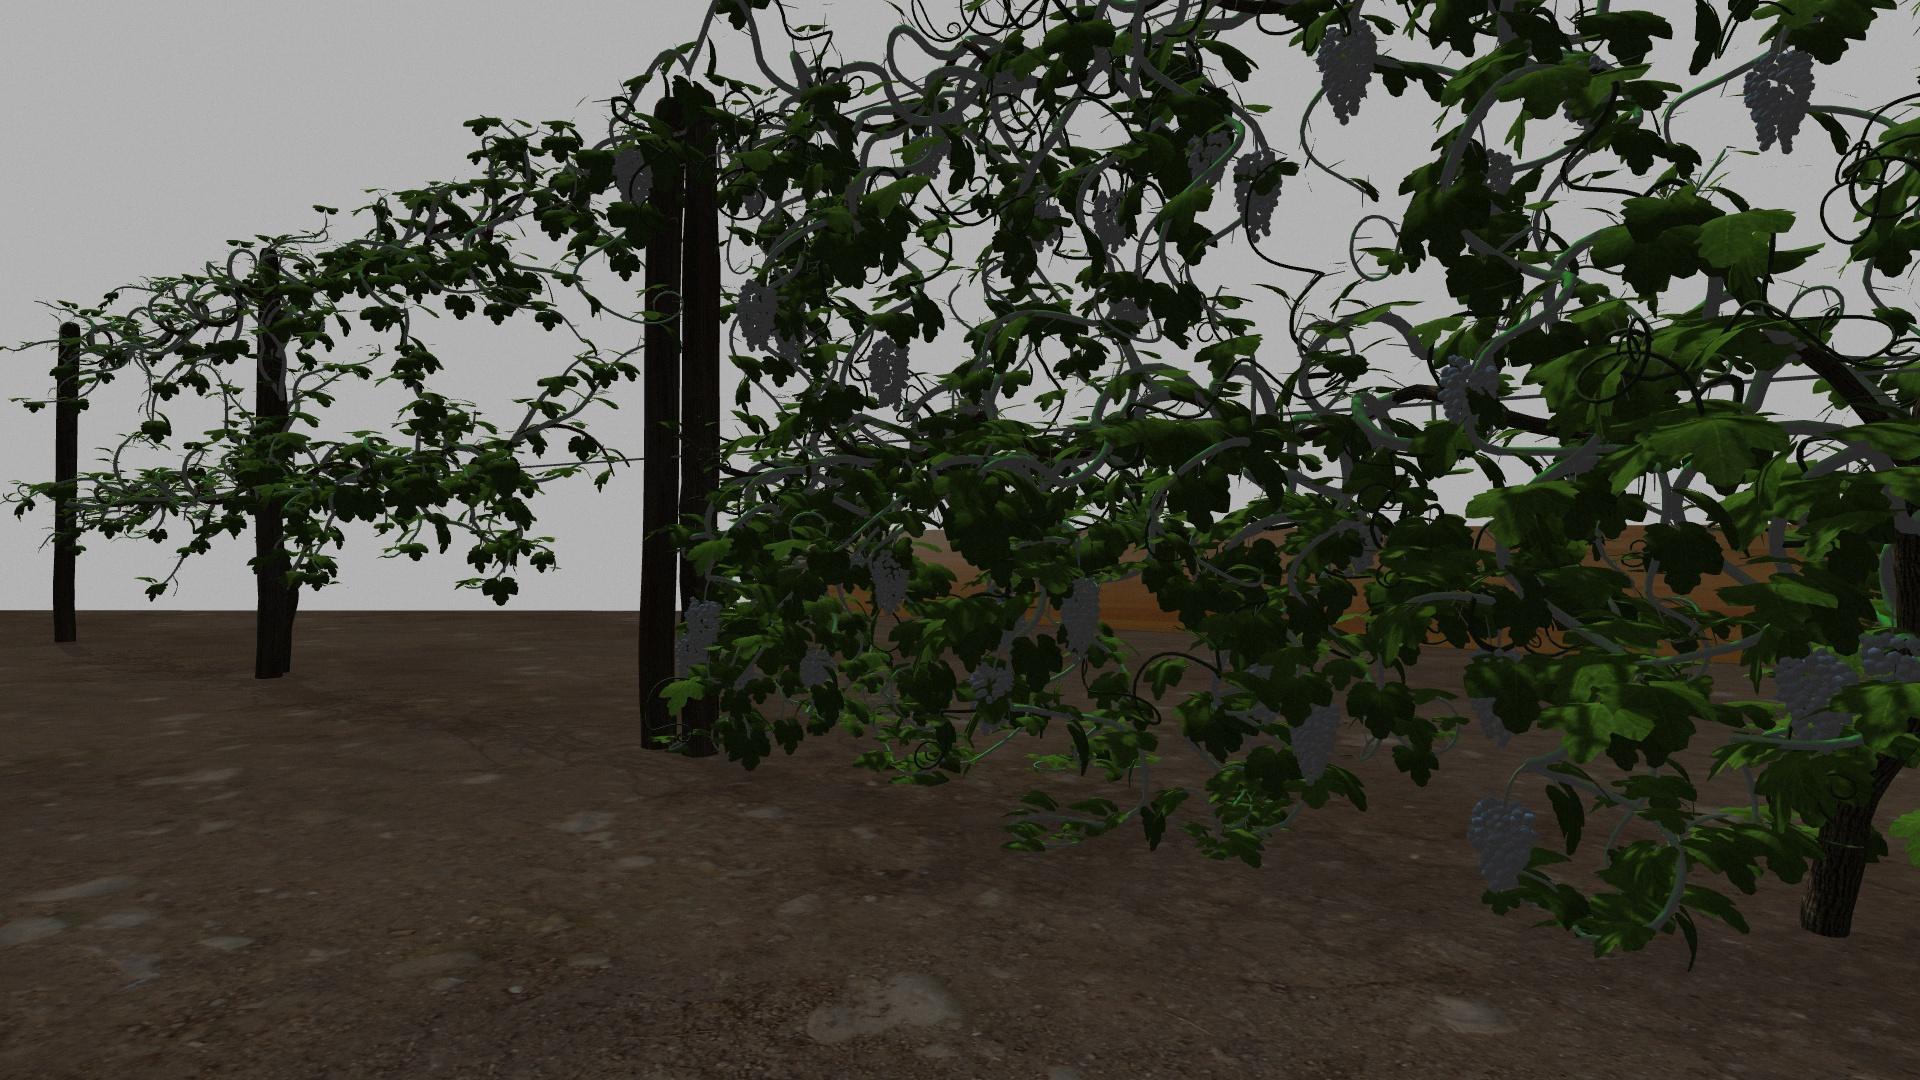grape: (1774, 644, 1859, 746), (1742, 51, 1815, 156), (1466, 796, 1542, 894), (1315, 20, 1379, 125), (1280, 694, 1344, 789), (1437, 355, 1501, 439), (1230, 153, 1284, 243), (1056, 578, 1104, 658), (868, 338, 910, 410), (736, 278, 775, 349), (1861, 630, 1913, 679), (1092, 189, 1131, 253), (870, 551, 909, 616), (613, 146, 654, 206), (1188, 129, 1230, 185), (686, 600, 723, 651), (971, 659, 1014, 702), (674, 638, 709, 680), (800, 647, 833, 690)
